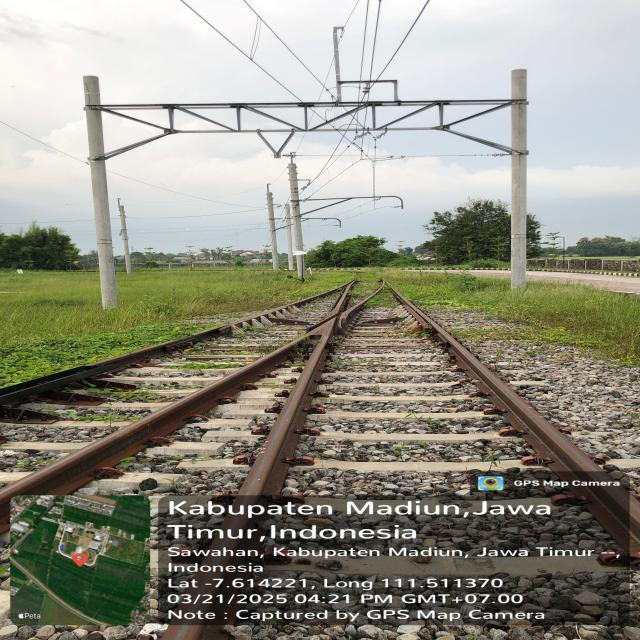rail-detection: (0, 294, 365, 533), (390, 287, 640, 550), (0, 307, 285, 405), (165, 619, 219, 640)
